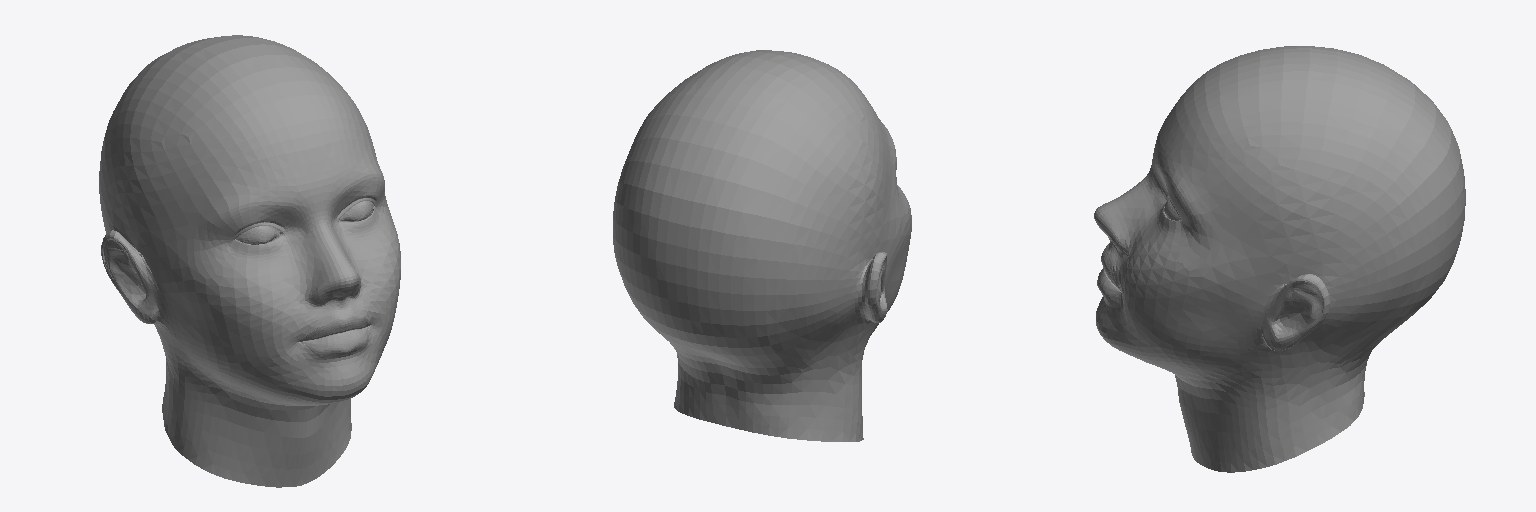
The picture shows the model from 3 angles: view 1: azimuth 30°, elevation 25°; view 2: azimuth 150°, elevation 25°; view 3: azimuth 270°, elevation 25°; orthographic projection.
Parts seen in each view (by area): view 1: skin_hi, eyeR_hi; view 2: skin_hi; view 3: skin_hi.
Part boxes in pixels (x1,y1,x2,y2): skin_hi: (99,35,400,487); eyeR_hi: (236,226,279,244); skin_hi: (613,50,911,441); skin_hi: (1094,46,1465,472).
Size of the model in its own units: 198 by 283 by 241.